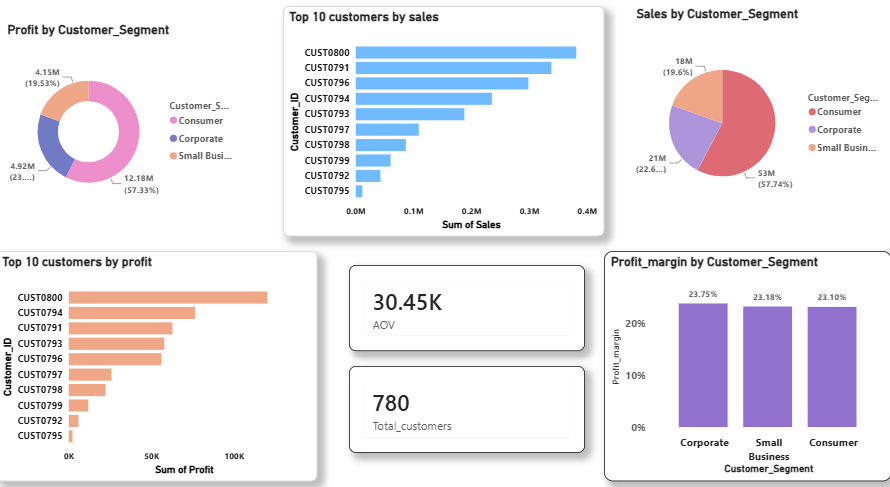

Layout of this report page (visuals, bound fields, positions):
{"tool":"powerbi","page":{"name":"customer analysis","canvas":[1280,720],"ordinal":2},"visuals":[{"type":"donutChart","title":"Profit by Customer_Segment","fields":{"Category":["Ecommerce_Customers.Customer_Segment"],"Y":["Sum(Ecommerce_Orders (1).Profit)"]},"box":[11.4,32.9,341.4,281.4],"z":0},{"type":"barChart","title":"Top 10 customers by profit","fields":{"Category":["Ecommerce_Customers.Customer_ID"],"Y":["Sum(Ecommerce_Orders (1).Profit)"]},"box":[0,360,458.6,328.6],"z":1},{"type":"pieChart","title":" Sales by Customer_Segment","fields":{"Category":["Ecommerce_Customers.Customer_Segment"],"Y":["Sum(Ecommerce_Orders (1).Sales)"]},"box":[910,10,370,302.9],"z":2},{"type":"barChart","title":"Top 10 customers by sales","fields":{"Category":["Ecommerce_Customers.Customer_ID"],"Y":["Sum(Ecommerce_Orders (1).Sales)"]},"box":[410,10,458.6,328.6],"z":3},{"type":"columnChart","fields":{"Category":["Ecommerce_Customers.Customer_Segment"],"Y":["Ecommerce_Orders (1).Profit_margin"]},"box":[868.6,360,411.4,328.6],"z":4},{"type":"cardVisual","fields":{"Data":["Ecommerce_Orders (1).AOV"]},"box":[504.3,380,337.1,122.9],"z":5},{"type":"cardVisual","fields":{"Data":["Ecommerce_Orders (1).Total_customers"]},"box":[504.3,524.3,337.1,124.3],"z":6}]}

Visuals, with their boxes in screenshot pixels (x1, y1, x2, y2), scaled from the page's 1280x720 canvas onto the 890x487 screenshot:
"Profit by Customer_Segment" donutChart: BBox(8, 22, 245, 213)
"Top 10 customers by profit" barChart: BBox(0, 244, 319, 466)
" Sales by Customer_Segment" pieChart: BBox(633, 7, 889, 212)
"Top 10 customers by sales" barChart: BBox(285, 7, 604, 229)
columnChart - Ecommerce_Customers.Customer_Segment x Ecommerce_Orders (1).Profit_margin: BBox(604, 244, 889, 466)
cardVisual - Ecommerce_Orders (1).AOV: BBox(351, 257, 585, 340)
cardVisual - Ecommerce_Orders (1).Total_customers: BBox(351, 355, 585, 439)
